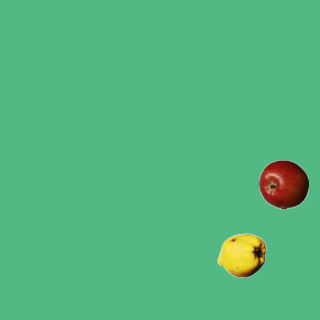Apple Braeburn: (258, 159, 308, 209)
Quince: (216, 230, 266, 280)
